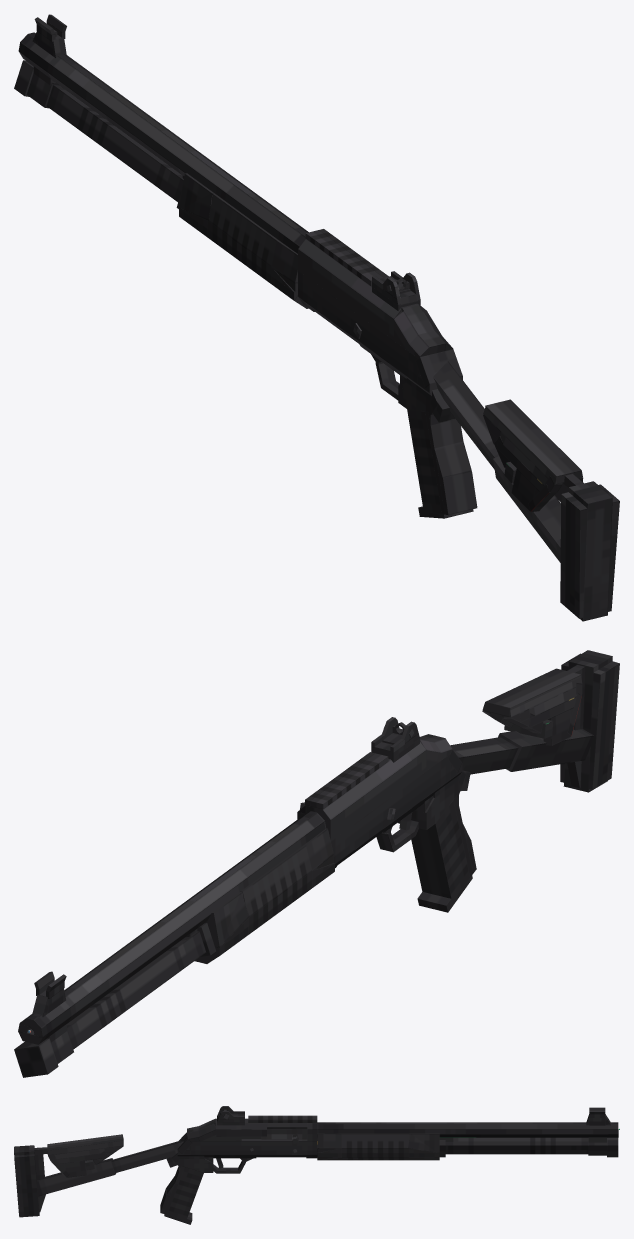
3 views of the same model, one above another, from view 1: azimuth 30°, elevation 25°; view 2: azimuth 150°, elevation 25°; view 3: azimuth 270°, elevation 25° (orthographic). The views are drawn at different scales.
Visible parts, largest first — view 1: gun_84, stock_29, ironsights_12, ironsights_3; view 2: gun_84, stock_29, ironsights_12, ironsights_3; view 3: gun_84, stock_29, action_2, ironsights_12, ironsights_3.
Boxes of the visible parts, x1=… form: gun_84: x1=14, y1=32, x2=477, y2=518; stock_29: x1=433, y1=361, x2=619, y2=621; ironsights_12: x1=372, y1=271, x2=420, y2=310; ironsights_3: x1=32, y1=14, x2=66, y2=57; gun_84: x1=14, y1=734, x2=476, y2=1077; stock_29: x1=450, y1=650, x2=619, y2=792; ironsights_12: x1=371, y1=717, x2=419, y2=762; ironsights_3: x1=32, y1=971, x2=66, y2=1016; gun_84: x1=160, y1=1115, x2=618, y2=1224; stock_29: x1=14, y1=1134, x2=183, y2=1217; action_2: x1=261, y1=1129, x2=307, y2=1143; ironsights_12: x1=217, y1=1106, x2=244, y2=1125; ironsights_3: x1=586, y1=1107, x2=610, y2=1125.
Bounding box in the file's own units: 0.4002 × 1.52 × 7.44.
